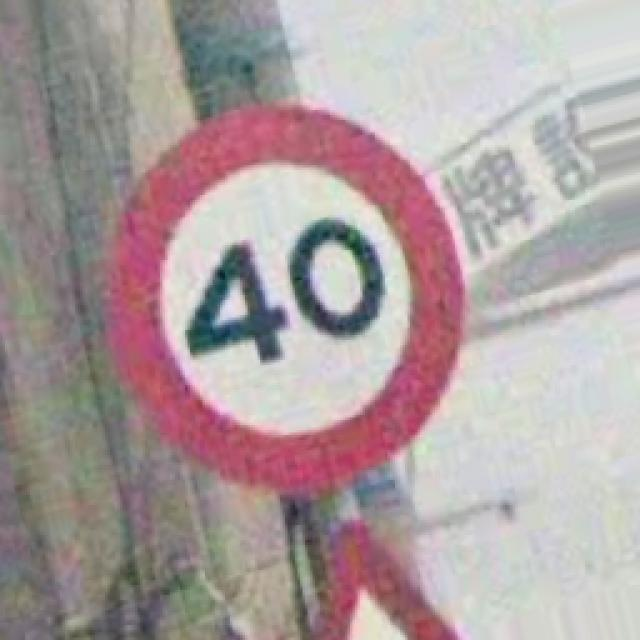Speed Limit -40-: (110, 105, 462, 492)
